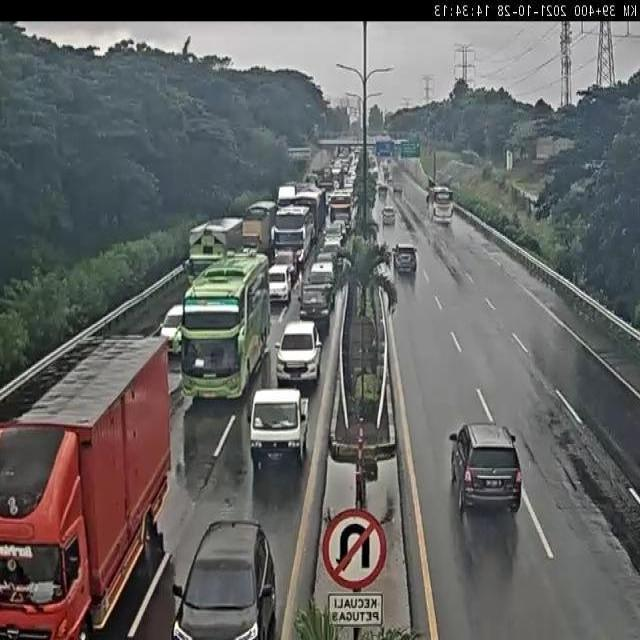Bus: (179, 248, 272, 400), (271, 204, 314, 268), (289, 187, 326, 242), (430, 185, 454, 224)
Car: (170, 519, 276, 638), (450, 422, 522, 515), (275, 320, 323, 388), (159, 302, 185, 353), (267, 263, 295, 303), (274, 245, 302, 280), (393, 243, 418, 276), (382, 206, 396, 225), (378, 182, 388, 199)
Truck: (1, 336, 174, 636), (249, 387, 309, 470), (188, 218, 246, 279), (242, 200, 280, 260)
